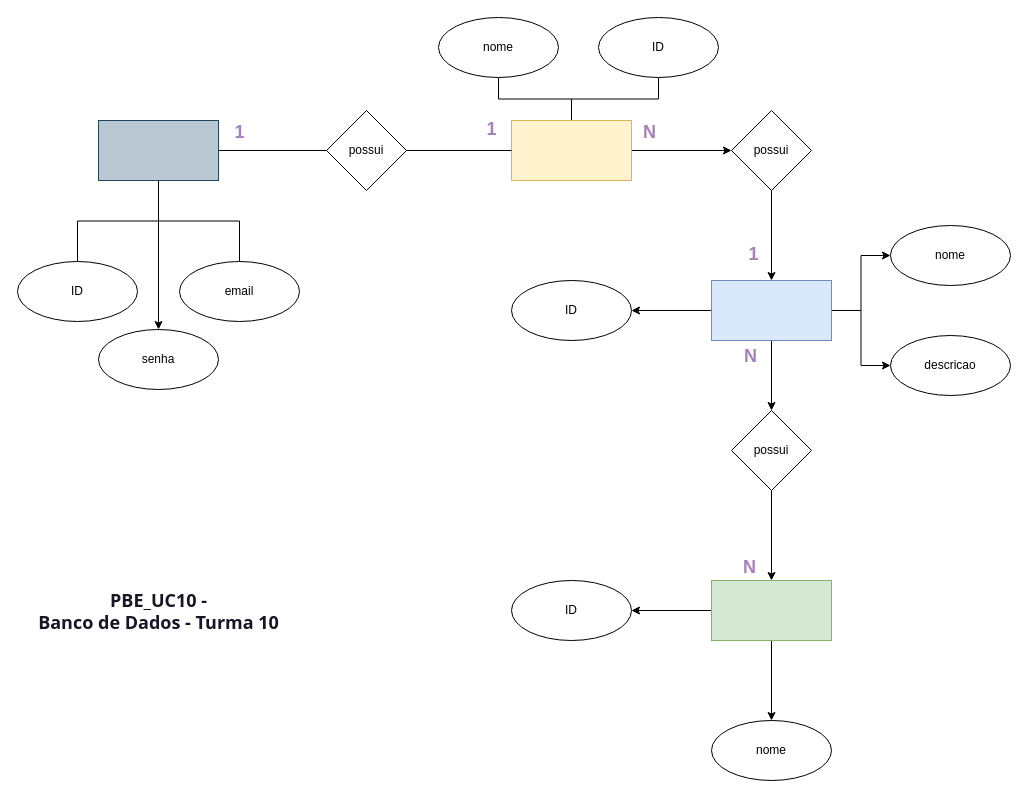
Image size: 1028x798. Some labels were removed from this diagram. The shapes that lost their labels are listed below. From the top down, each one's centre as x and y in pixels, then its label:
At point (158, 150): "Usuario".
At point (571, 150): "Personagem".
At point (771, 310): "Classe".
At point (771, 610): "Habilidade".
